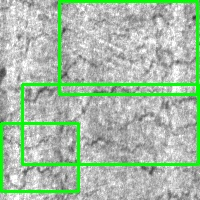crazing: (22, 84, 198, 164), (59, 1, 197, 94), (1, 123, 78, 191)
